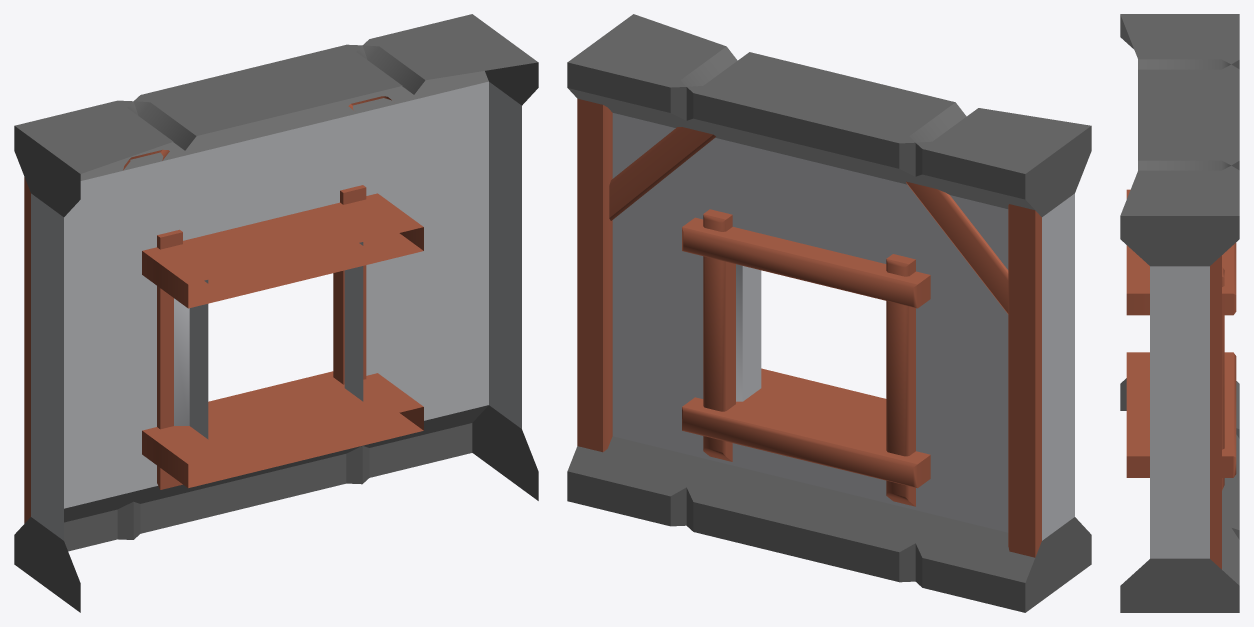
File: Wall_Window_Open_Scaffold.fbx
3 views of the same model, side by side, from view 1: azimuth 30°, elevation 25°; view 2: azimuth 150°, elevation 25°; view 3: azimuth 270°, elevation 25° (orthographic). The views are drawn at different scales.
Parts seen in each view (by area): view 1: Wall_Window_Open_Scaffold; view 2: Wall_Window_Open_Scaffold; view 3: Wall_Window_Open_Scaffold.
Boxes of the visible parts, bbox=[...] form: Wall_Window_Open_Scaffold: bbox=[14, 14, 538, 612]; Wall_Window_Open_Scaffold: bbox=[567, 14, 1091, 612]; Wall_Window_Open_Scaffold: bbox=[1120, 14, 1239, 612].
Bounding box in the file's own units: 1.47 × 1.35 × 0.3678.
1 material, 1 textured.
